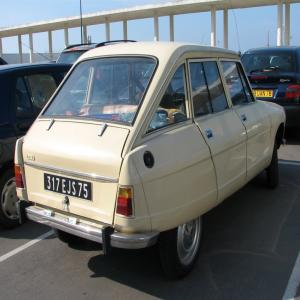Vehicle-registration-plate: (45, 170, 102, 219), (247, 89, 273, 99)
